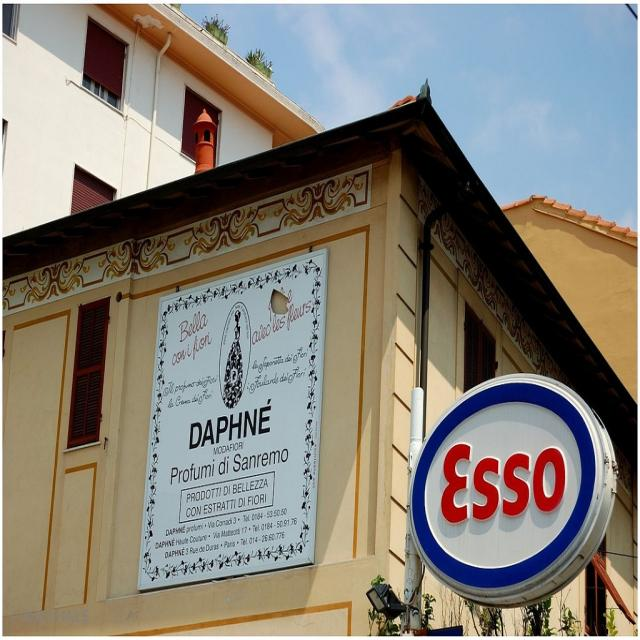esso: (405, 374, 613, 604)
